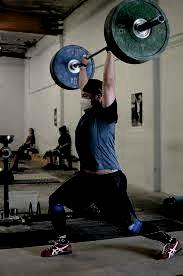Barbell: (158, 12, 167, 25)
